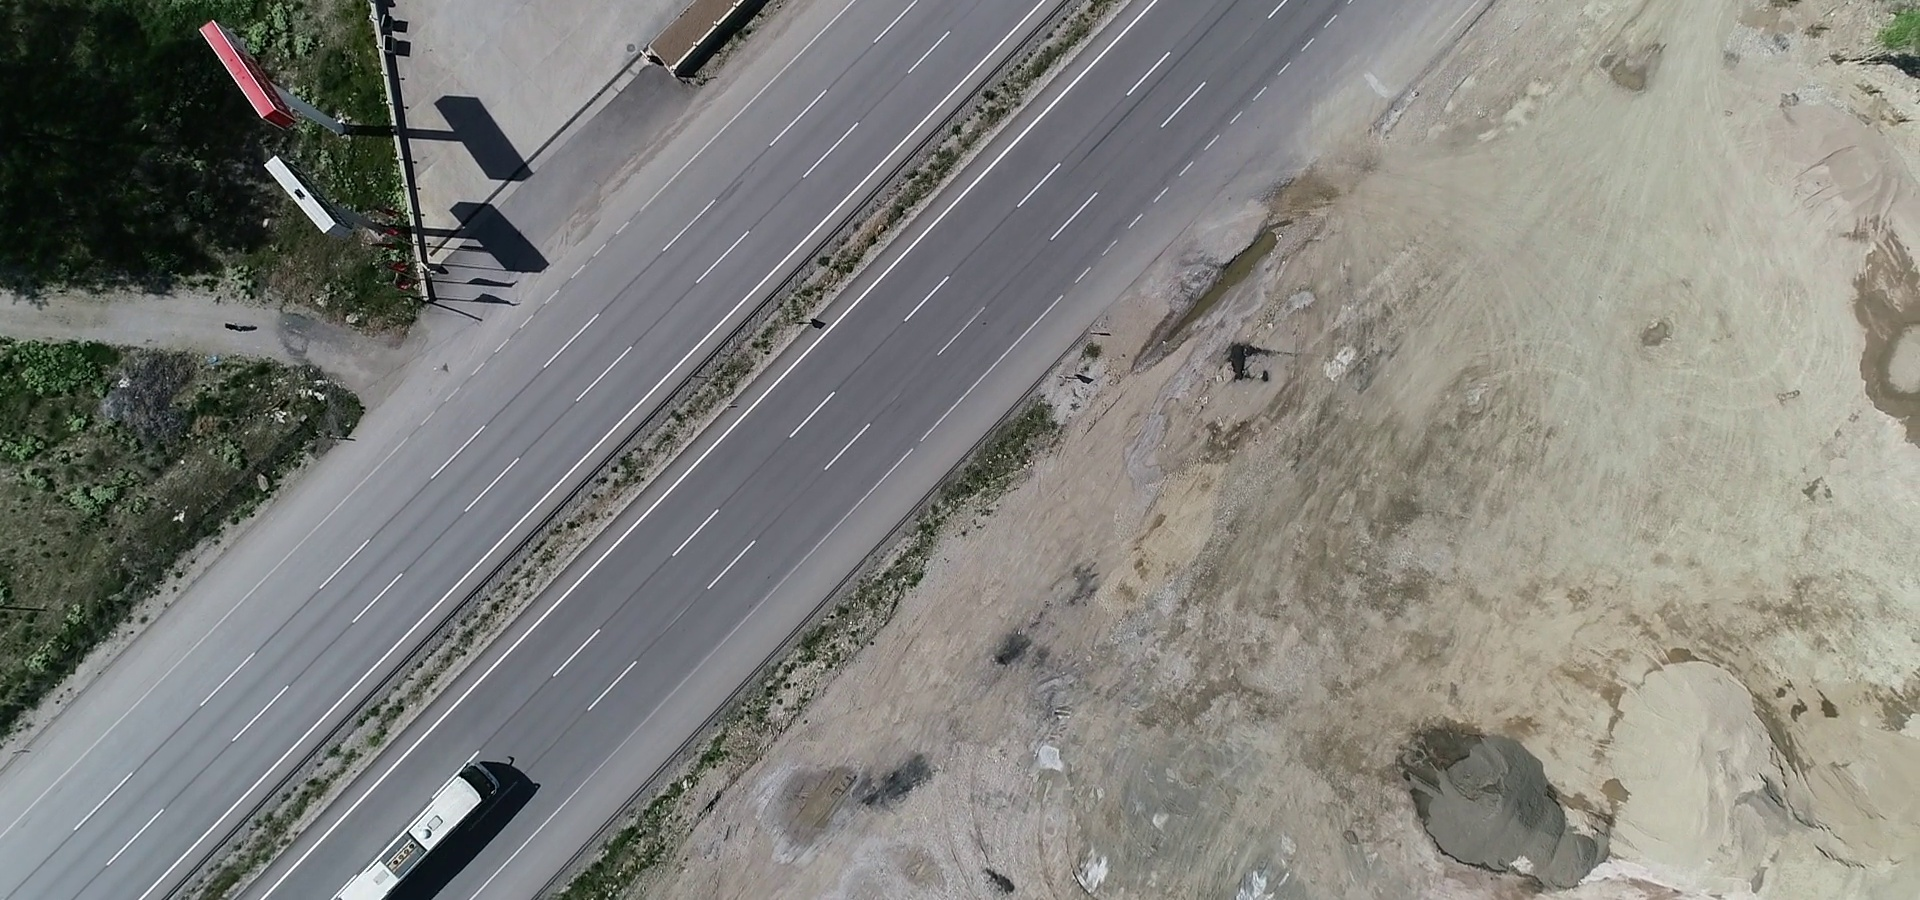arac: (324, 751, 509, 900)
